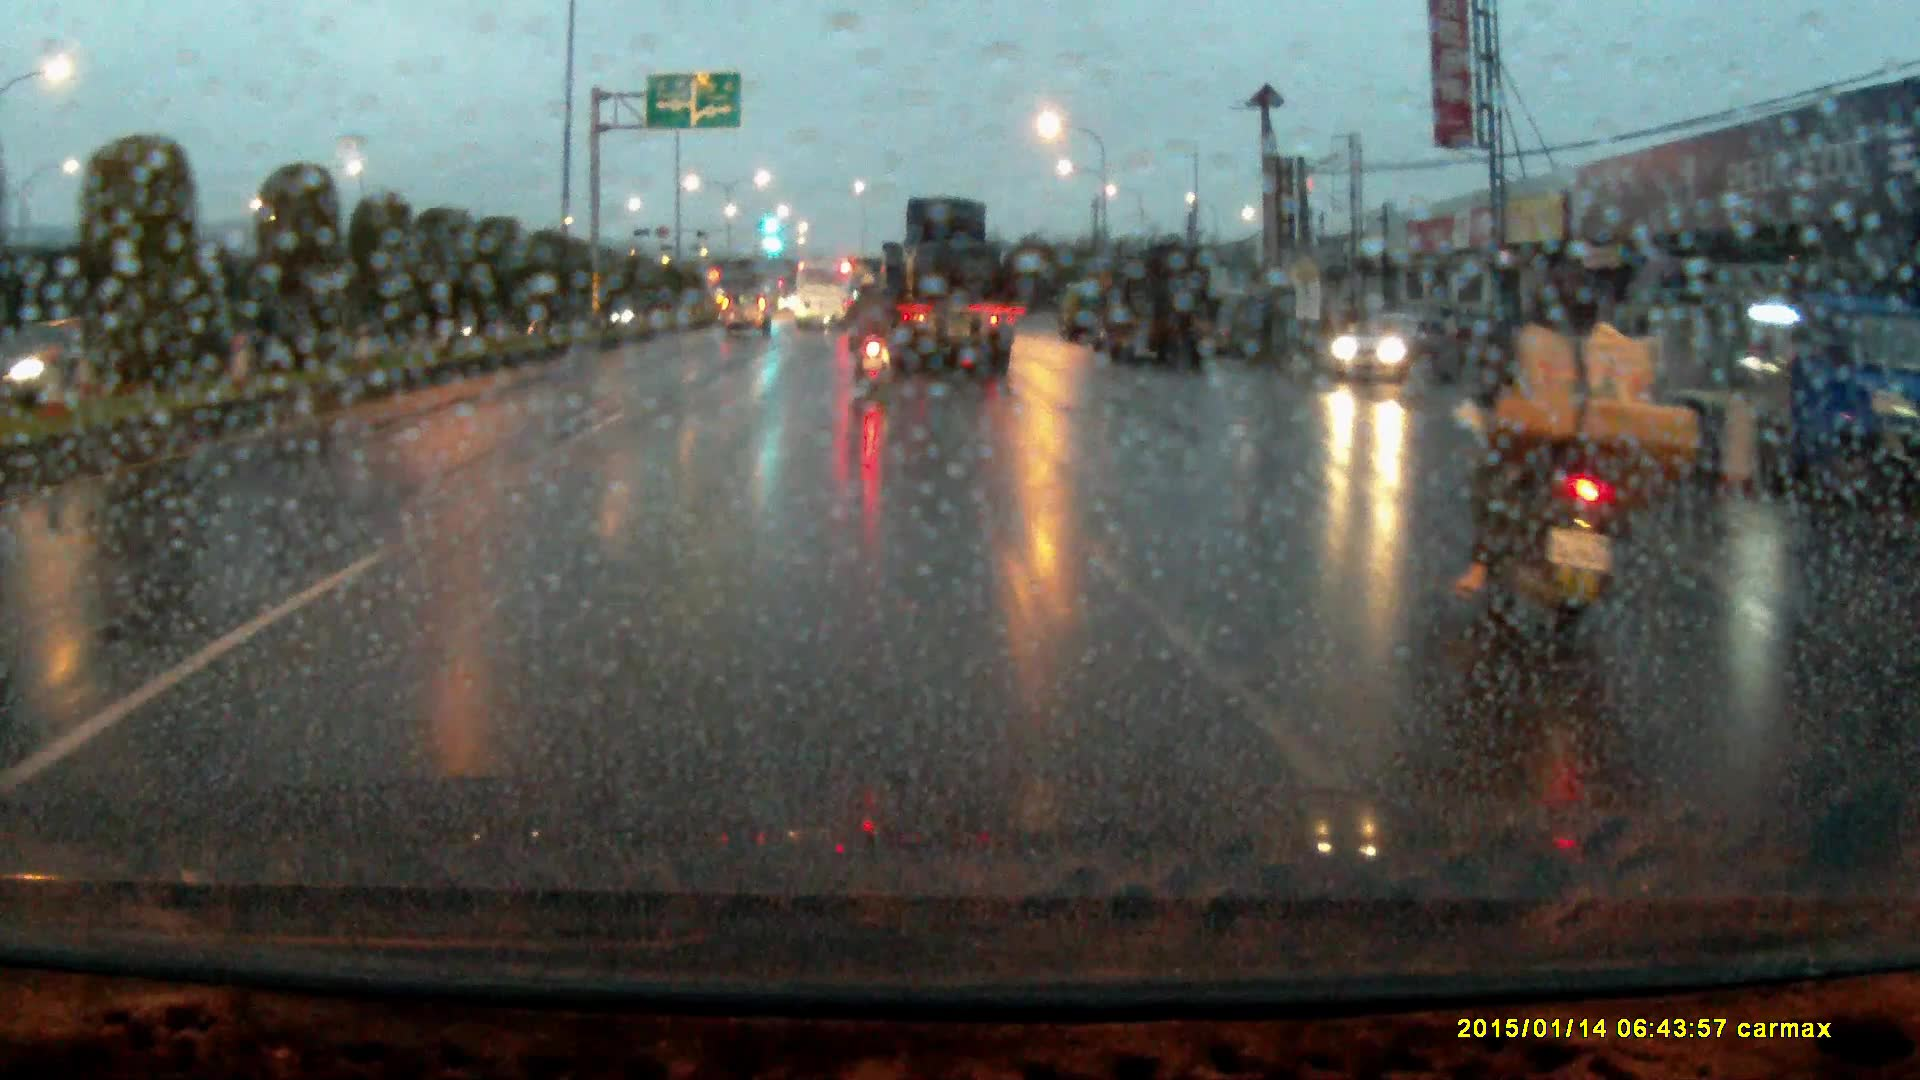rider: (1451, 249, 1718, 668), (845, 267, 900, 388)
vehicle: (1645, 292, 1920, 490), (870, 196, 1009, 374), (1100, 245, 1224, 369), (1328, 311, 1444, 383), (795, 259, 856, 330), (1057, 279, 1110, 340), (721, 285, 774, 337)
